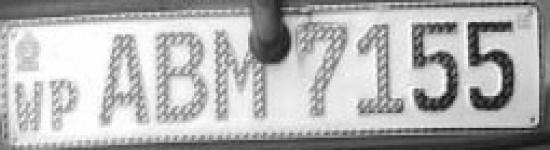1: (352, 17, 408, 123)
5: (463, 13, 522, 119), (409, 13, 462, 122)
7: (292, 19, 351, 126)
A: (94, 27, 153, 132)
B: (154, 28, 208, 131)
M: (210, 25, 271, 132)
P: (45, 74, 83, 136)
W: (10, 76, 48, 136)
